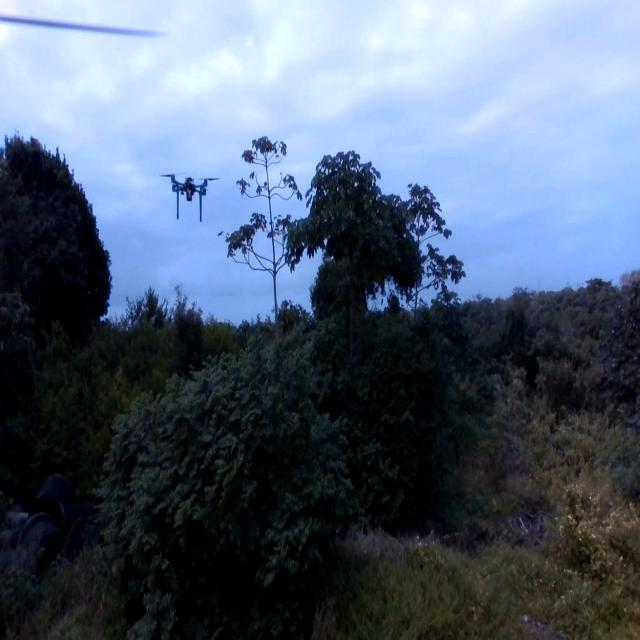-uav-: (154, 164, 228, 240)
